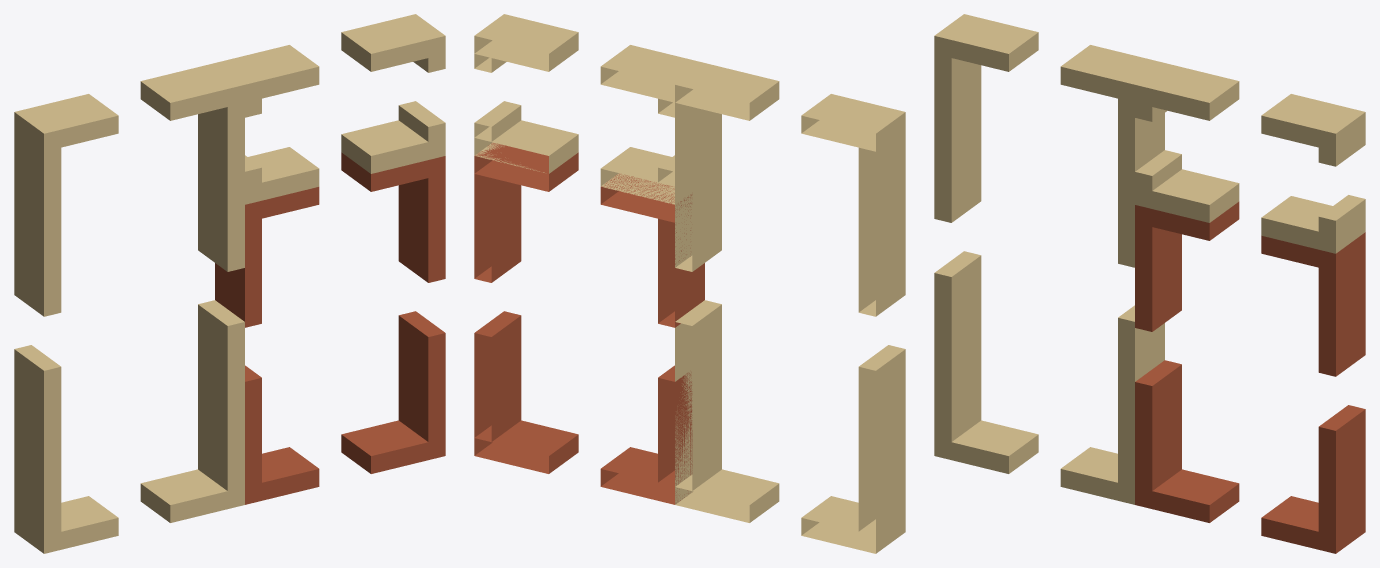
The model's file is construction_0.glb.
3 renders of one model, left to right at view 1: azimuth 30°, elevation 25°; view 2: azimuth 150°, elevation 25°; view 3: azimuth 330°, elevation 25°, orthographic.
Visible parts, largest first — view 1: c0; view 2: c0; view 3: c0.
Boxes of the visible parts, x1,y1,x2,y2 form: c0: (14,14,445,553); c0: (474,14,905,553); c0: (934,14,1365,553).
Bounding box in the file's own units: 14 × 14 × 1.8.
